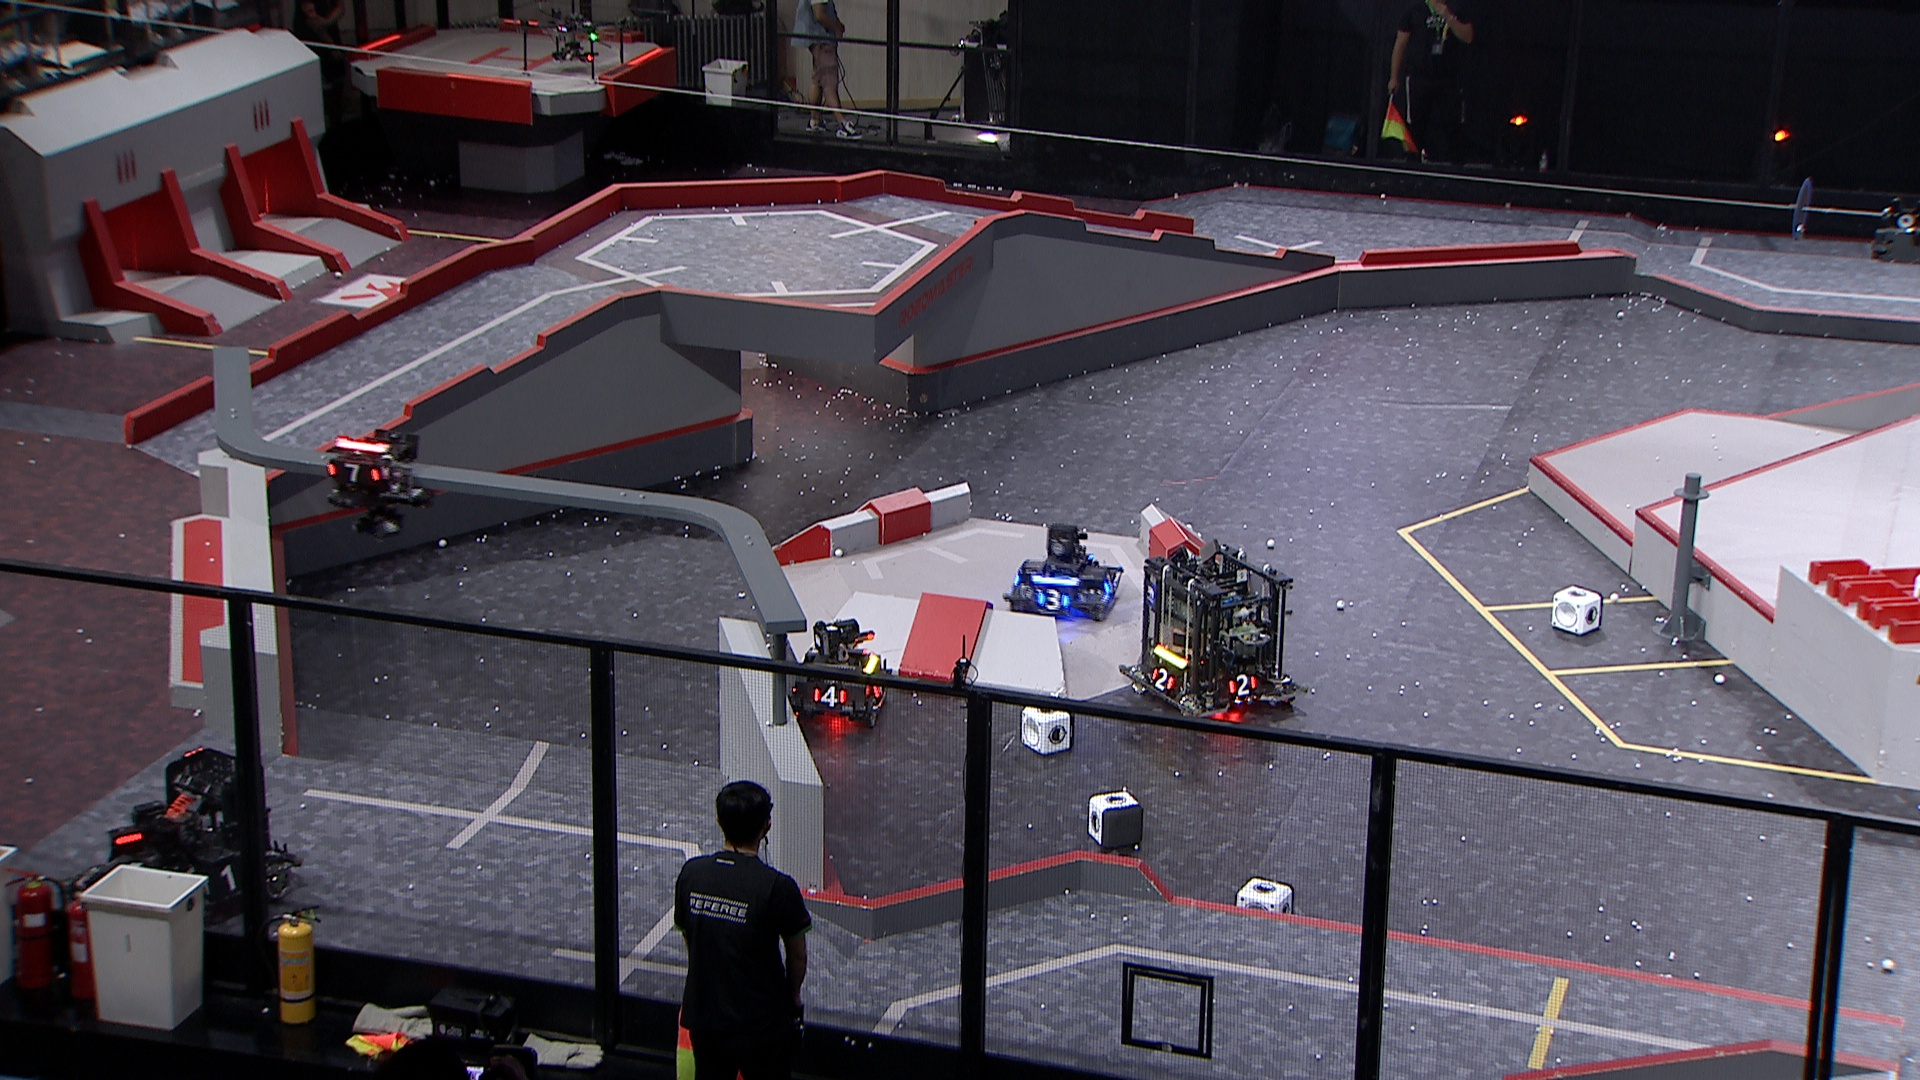armor: (202, 862, 243, 895), (327, 462, 382, 484), (1038, 588, 1073, 615), (812, 684, 849, 707), (1149, 665, 1178, 692), (1228, 673, 1258, 698), (1101, 572, 1116, 595)
car: (73, 746, 306, 934), (1120, 541, 1309, 719), (1001, 520, 1125, 624), (787, 617, 891, 731)
watcher: (324, 427, 433, 541)
